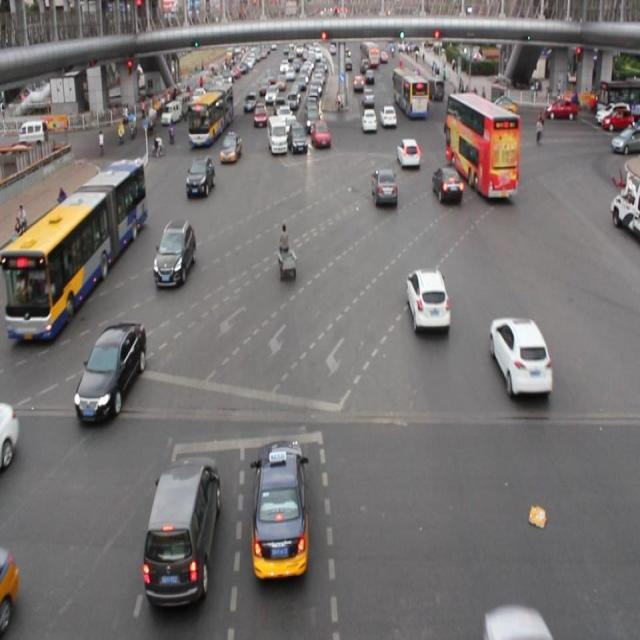BigCar: (36, 150, 137, 337), (446, 79, 510, 220)
car: (72, 322, 150, 441), (250, 443, 312, 590), (145, 462, 210, 601), (485, 301, 565, 395), (404, 249, 454, 336), (365, 165, 412, 231), (160, 224, 193, 287), (188, 147, 220, 197), (214, 117, 244, 159), (267, 120, 287, 169)
